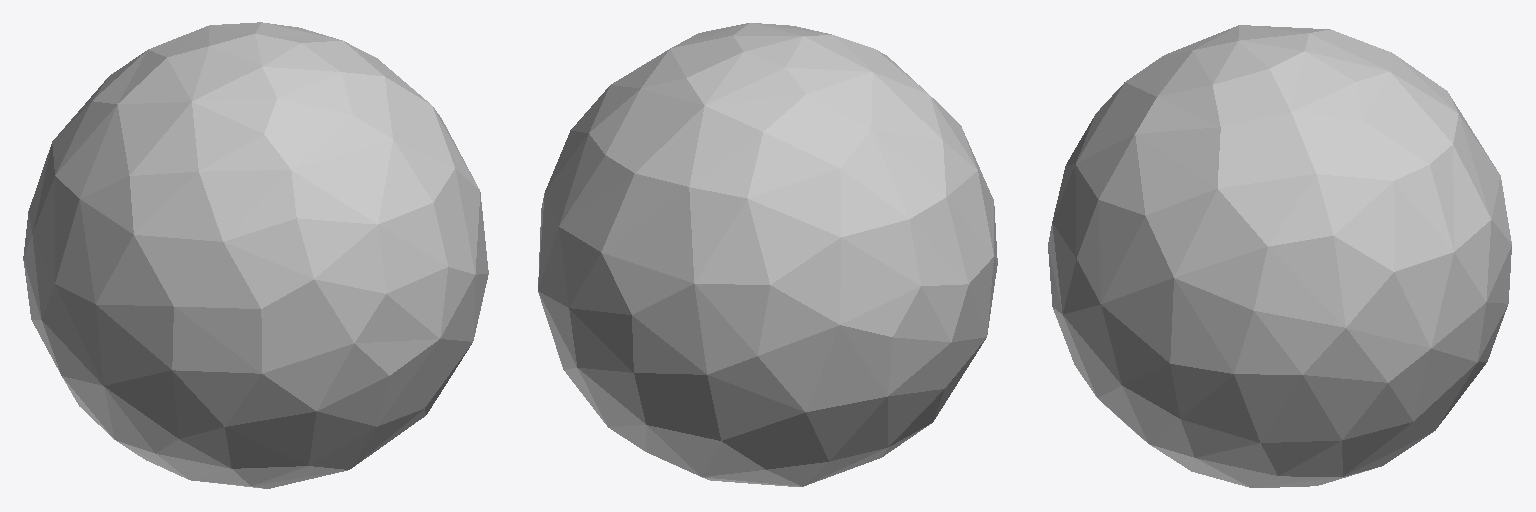
File: point_volume.obj
3 renders of one model, left to right at view 1: azimuth 30°, elevation 25°; view 2: azimuth 150°, elevation 25°; view 3: azimuth 270°, elevation 25°, orthographic.
Visible parts, largest first — view 1: Sphere; view 2: Sphere; view 3: Sphere.
Part boxes in pixels (x1,y1,x2,y2): Sphere: (23, 22, 488, 488); Sphere: (538, 23, 997, 486); Sphere: (1048, 25, 1511, 487).
Size of the model in its own units: 2 by 2 by 2.